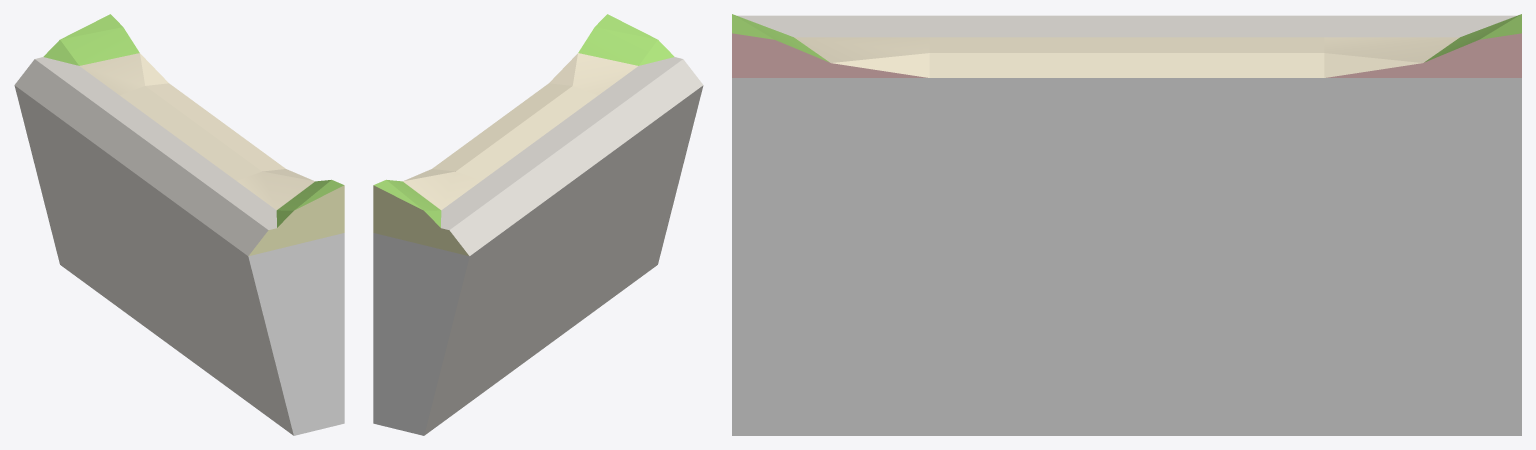
Rendered from Cliff_Path_Wide.glb.
The picture shows the model from 3 angles, left to right: view 1: azimuth 30°, elevation 25°; view 2: azimuth 150°, elevation 25°; view 3: azimuth 270°, elevation 25°; orthographic projection. The views are drawn at different scales.
Visible parts, largest first — view 1: Path_End_Edge_Top_1x1 (×2), Path_End_Center_Top_1x1; view 2: Path_End_Edge_Top_1x1 (×2), Path_End_Center_Top_1x1; view 3: Path_End_Edge_Top_1x1 (×2), Path_End_Center_Top_1x1.
Part boxes in pixels (x1,y1,x2,y2): Path_End_Edge_Top_1x1 (×2): (14, 14, 344, 435); Path_End_Center_Top_1x1: (73, 83, 285, 392); Path_End_Edge_Top_1x1 (×2): (373, 14, 703, 435); Path_End_Center_Top_1x1: (432, 83, 644, 392); Path_End_Edge_Top_1x1 (×2): (732, 14, 1521, 435); Path_End_Center_Top_1x1: (929, 15, 1324, 435).
Size of the model in its own units: 95 by 225 by 400.
